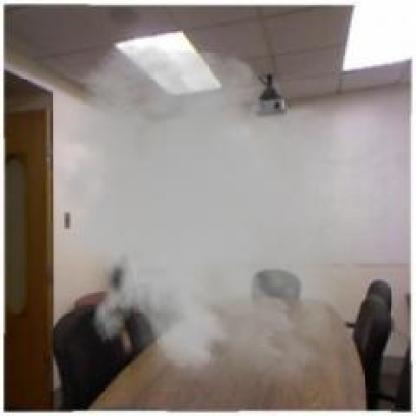Smoke: (37, 42, 379, 403)
